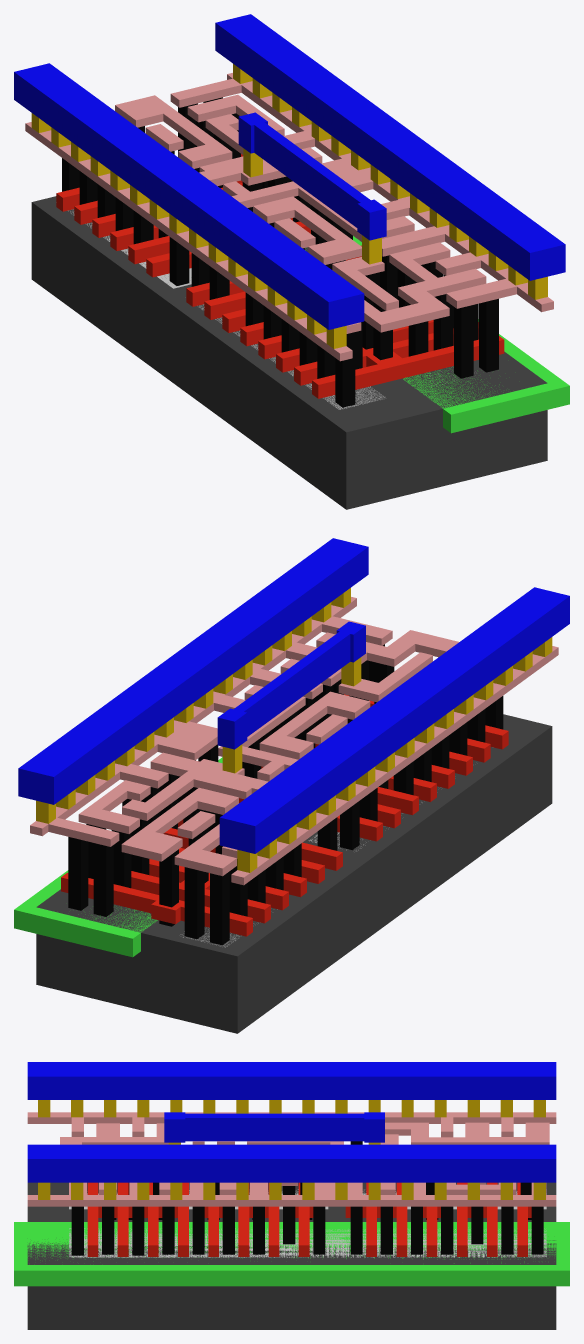
The model's file is sky130_fd_sc_hd__o2bb2a_4.obj.
3 renders of one model, top to bottom at view 1: azimuth 30°, elevation 25°; view 2: azimuth 150°, elevation 25°; view 3: azimuth 270°, elevation 25°, orthographic. The views are drawn at different scales.
Parts seen in each view (by area): view 1: subs, metal1, li, licon, poly, mcon, nwell, diff; view 2: metal1, subs, li, licon, poly, mcon, nwell; view 3: metal1, subs, nwell, li, licon, poly, mcon, tap.
Boxes of the visible parts, x1,y1,x2,y2 form: subs: [31, 196, 547, 509]; metal1: [14, 14, 565, 329]; li: [25, 73, 553, 361]; licon: [62, 97, 498, 407]; poly: [56, 154, 504, 398]; mcon: [31, 64, 547, 348]; nwell: [305, 236, 569, 433]; diff: [68, 209, 385, 409]; metal1: [18, 538, 569, 853]; subs: [36, 714, 552, 1033]; li: [30, 597, 558, 885]; licon: [68, 644, 503, 945]; poly: [61, 694, 508, 936]; mcon: [36, 588, 552, 872]; nwell: [14, 757, 222, 957]; metal1: [27, 1062, 556, 1182]; subs: [27, 1182, 556, 1329]; nwell: [14, 1222, 569, 1286]; li: [27, 1112, 556, 1206]; licon: [71, 1141, 543, 1255]; poly: [87, 1182, 531, 1256]; mcon: [38, 1100, 545, 1199]; tap: [69, 1227, 546, 1257].
Size of the model in its own units: 3.2 by 2.74 by 7.74.
